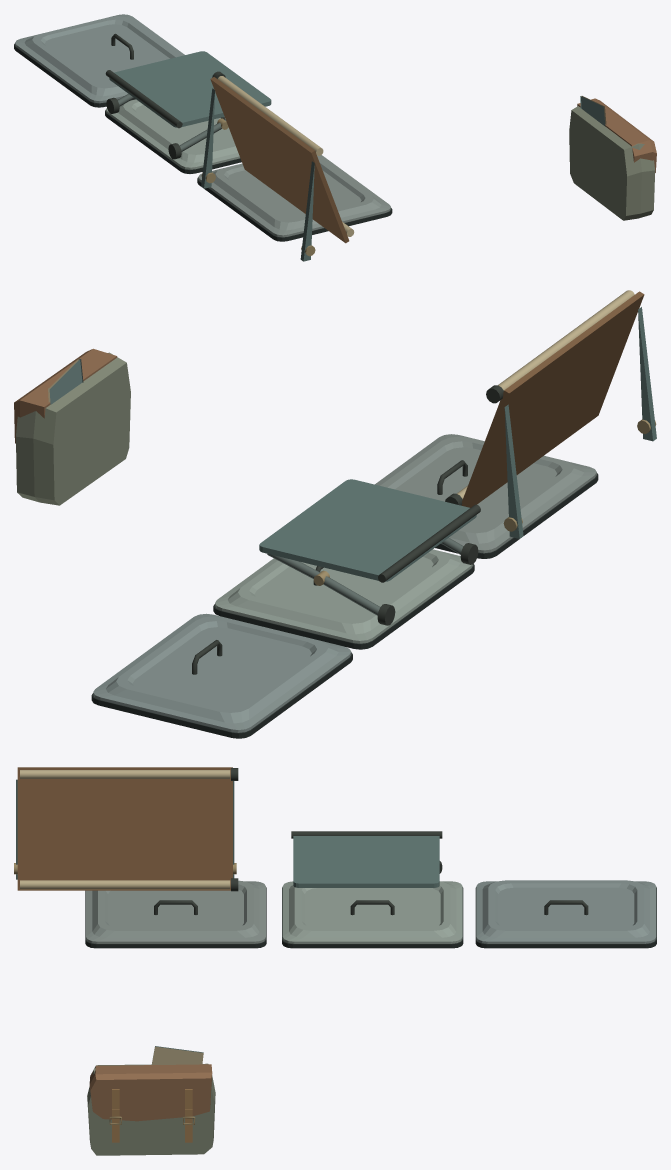
File: wheelhouse-metalwork.glb
The picture shows the model from 3 angles, top to bottom: view 1: azimuth 30°, elevation 25°; view 2: azimuth 150°, elevation 25°; view 3: azimuth 270°, elevation 25°; orthographic projection. The views are drawn at different scales.
Parts seen in each view (by area): view 1: wheelhouse metalwork; view 2: wheelhouse metalwork; view 3: wheelhouse metalwork.
Boxes of the visible parts, left/top/right/bottom form: wheelhouse metalwork: left=14, top=14, right=656, bottom=261; wheelhouse metalwork: left=14, top=290, right=656, bottom=738; wheelhouse metalwork: left=14, top=767, right=656, bottom=1155.
Size of the model in its own units: 1.58 by 0.7044 by 2.09.
